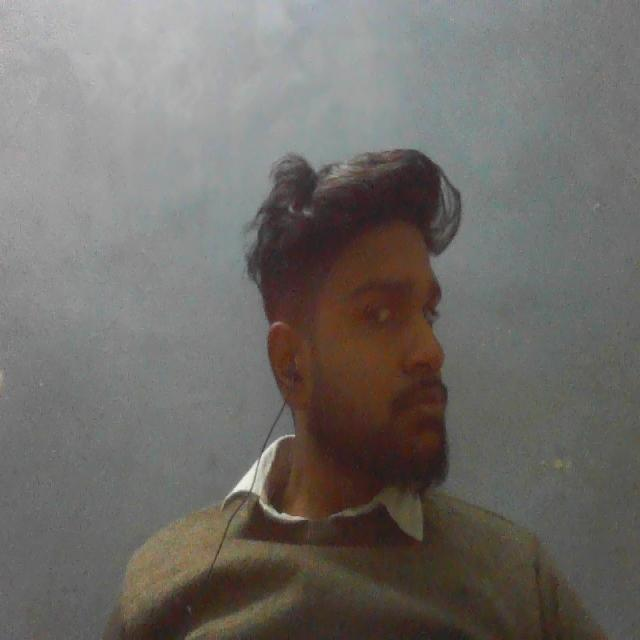real: (282, 143, 463, 484)
